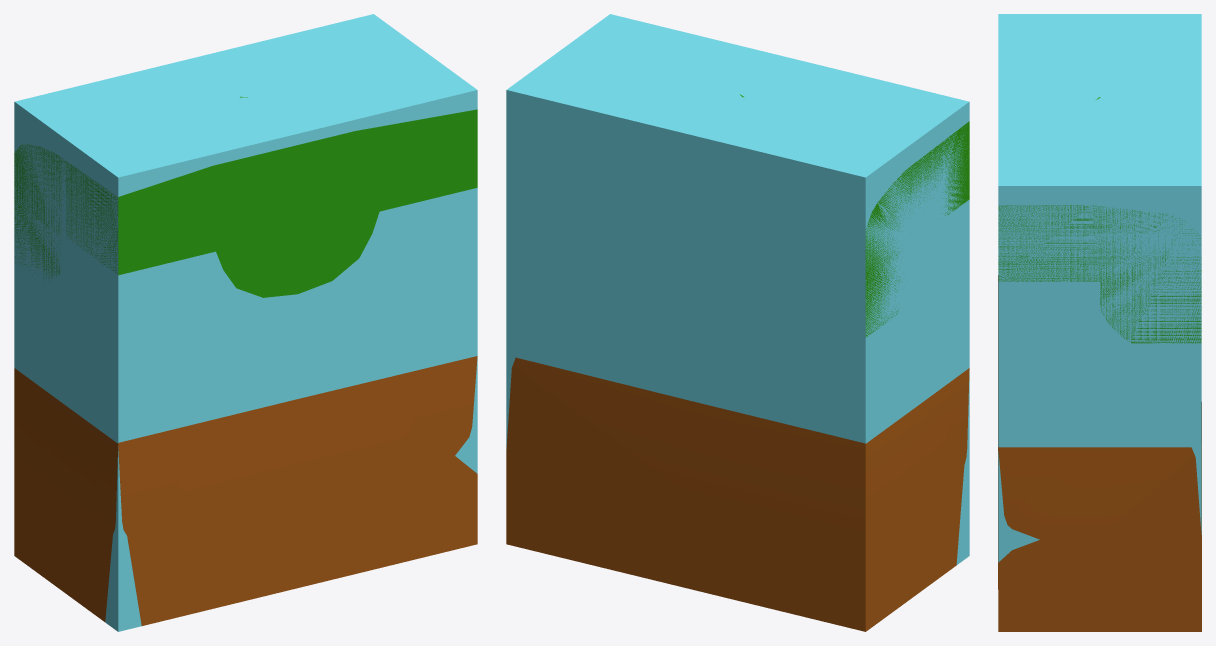
The model's file is PBOX2_Grass_03.FBX.
3 renders of one model, left to right at view 1: azimuth 30°, elevation 25°; view 2: azimuth 150°, elevation 25°; view 3: azimuth 270°, elevation 25°, orthographic.
Visible parts, largest first — view 1: PBOX2_Grass_03, PBOX2_SUB_TAB_MUD_01, PBOX2_SUB_Grass_03; view 2: PBOX2_Grass_03, PBOX2_SUB_TAB_MUD_01, PBOX2_SUB_Grass_03; view 3: PBOX2_Grass_03, PBOX2_SUB_TAB_MUD_01, PBOX2_SUB_Grass_03.
Boxes of the visible parts, left/top/right/bottom form: PBOX2_Grass_03: left=14, top=14, right=477, bottom=631; PBOX2_SUB_TAB_MUD_01: left=14, top=356, right=477, bottom=625; PBOX2_SUB_Grass_03: left=14, top=96, right=477, bottom=297; PBOX2_Grass_03: left=506, top=14, right=969, bottom=564; PBOX2_SUB_TAB_MUD_01: left=506, top=357, right=969, bottom=631; PBOX2_SUB_Grass_03: left=740, top=94, right=969, bottom=337; PBOX2_Grass_03: left=998, top=14, right=1201, bottom=562; PBOX2_SUB_TAB_MUD_01: left=998, top=275, right=1201, bottom=631; PBOX2_SUB_Grass_03: left=998, top=97, right=1201, bottom=343.
Bounding box in the file's own units: 12 × 14.5 × 6.
